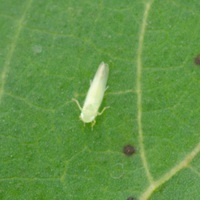insect: (72, 62, 108, 128)
